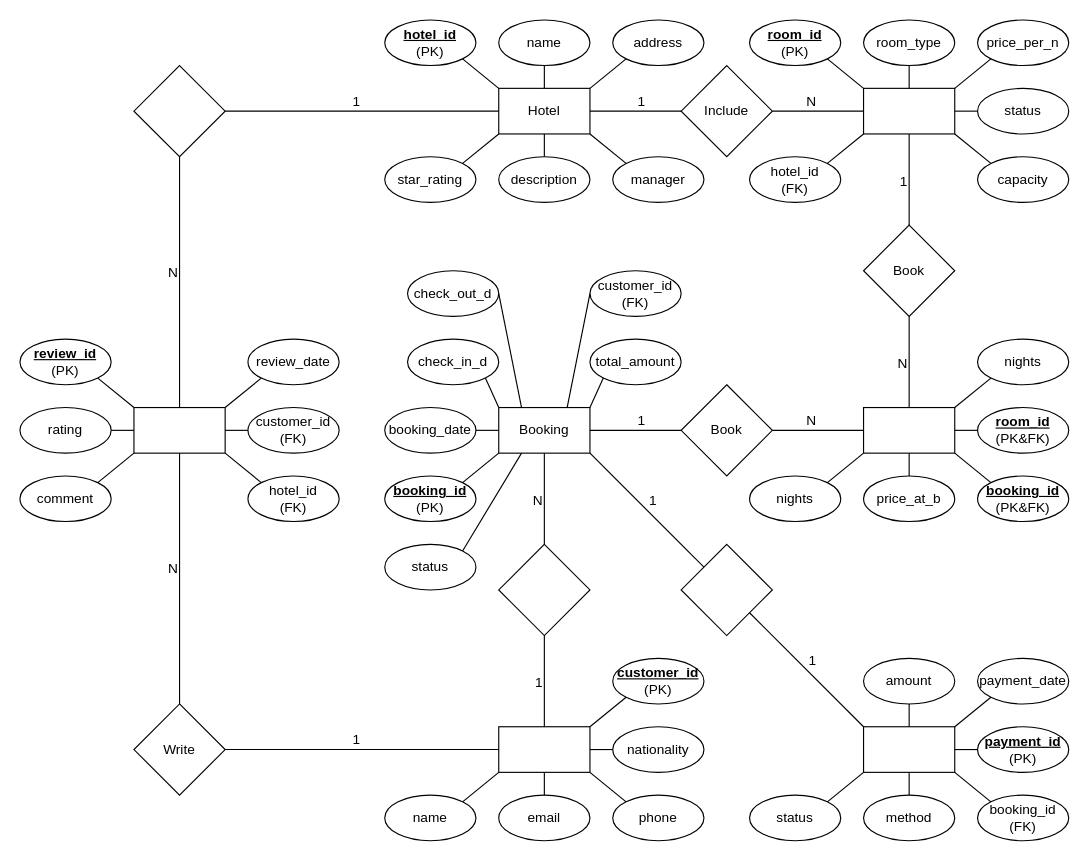
Some shapes in this 1089 by 861 pixel diagram are drawn without their labels. Each missing label, with the centre of its shape:
"BookingDetail" belongs at point (908, 429).
"Customer" belongs at point (544, 749).
"Order" belongs at point (544, 589).
"Pay" belongs at point (726, 589).
"Payment" belongs at point (908, 749).
"Receive" belongs at point (179, 110).
"Review" belongs at point (179, 429).
"Room" belongs at point (908, 110).
